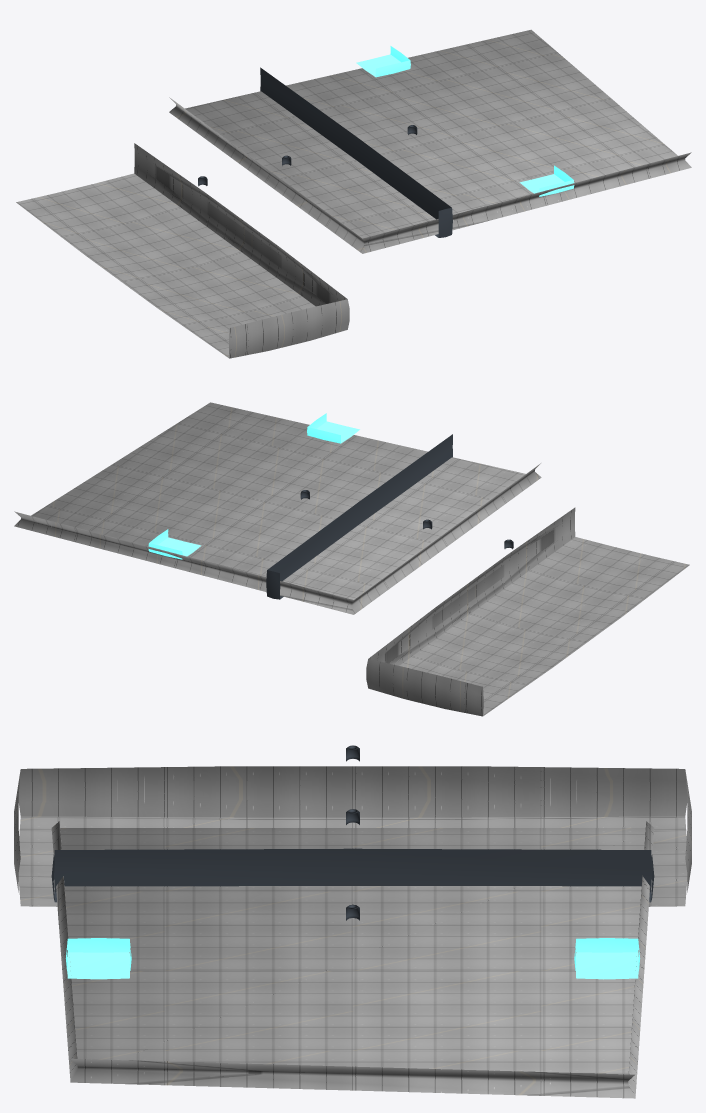
Rendered from fin_stabilator.glb.
3 renders of one model, top to bottom at view 1: azimuth 30°, elevation 25°; view 2: azimuth 150°, elevation 25°; view 3: azimuth 270°, elevation 25°, orthographic. The views are drawn at different scales.
Parts seen in each view (by area): view 1: fin_stabilator_Material_Hull_Merged, fin_stabilator_Material_Mechanical_Merged, fin_stabilator_Material_Accent_Merged; view 2: fin_stabilator_Material_Hull_Merged, fin_stabilator_Material_Mechanical_Merged, fin_stabilator_Material_Accent_Merged; view 3: fin_stabilator_Material_Hull_Merged, fin_stabilator_Material_Mechanical_Merged, fin_stabilator_Material_Accent_Merged.
Boxes of the visible parts, left/top/right/bottom form: fin_stabilator_Material_Hull_Merged: left=16, top=29, right=691, bottom=358; fin_stabilator_Material_Mechanical_Merged: left=198, top=67, right=452, bottom=237; fin_stabilator_Material_Accent_Merged: left=356, top=46, right=574, bottom=196; fin_stabilator_Material_Hull_Merged: left=14, top=402, right=689, bottom=716; fin_stabilator_Material_Mechanical_Merged: left=266, top=434, right=513, bottom=599; fin_stabilator_Material_Accent_Merged: left=148, top=413, right=359, bottom=559; fin_stabilator_Material_Hull_Merged: left=14, top=766, right=691, bottom=1098; fin_stabilator_Material_Mechanical_Merged: left=51, top=745, right=654, bottom=920; fin_stabilator_Material_Accent_Merged: left=65, top=938, right=640, bottom=979.
Bounding box in the file's own units: 4.8 × 0.835 × 3.6.
3 materials, 1 textured.
